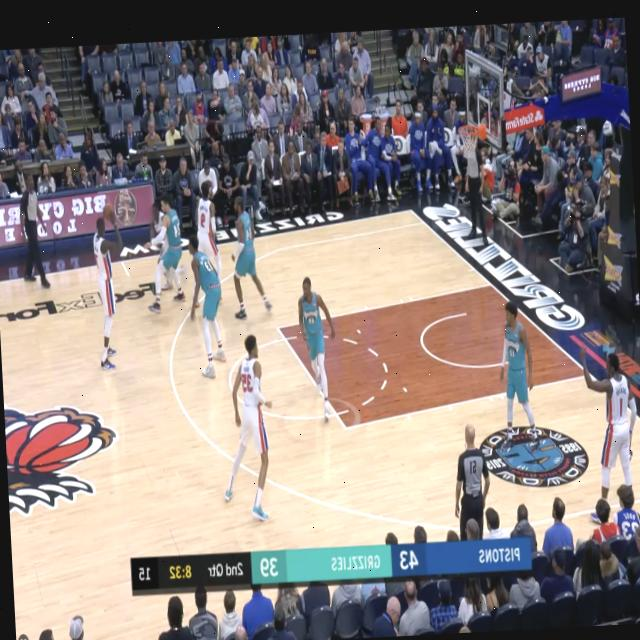no foul: (134, 194, 188, 312)
